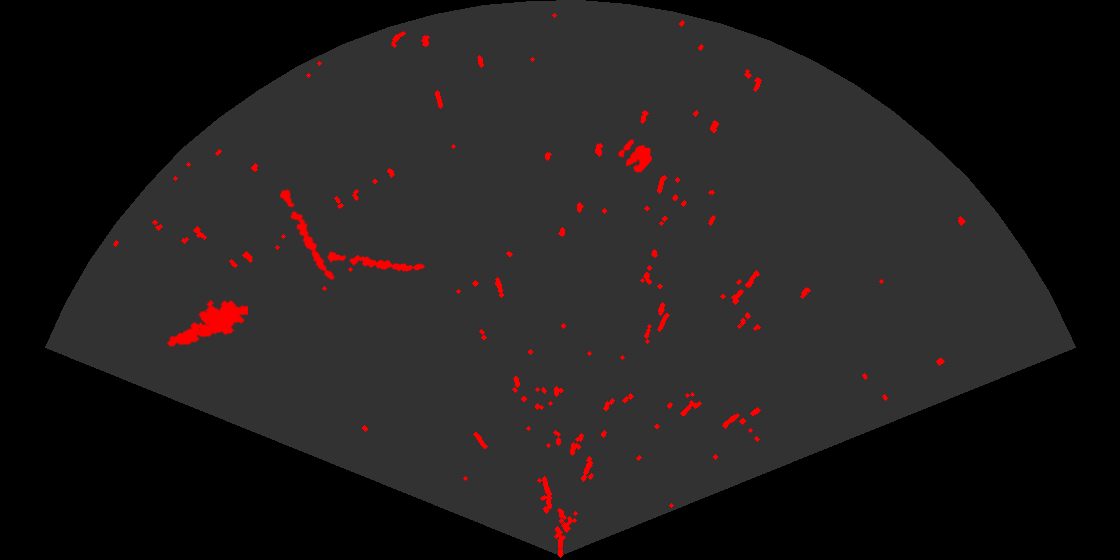ball: (617, 138, 654, 174)
chain: (278, 188, 336, 282), (325, 250, 426, 273)
frogman: (165, 298, 248, 349)
